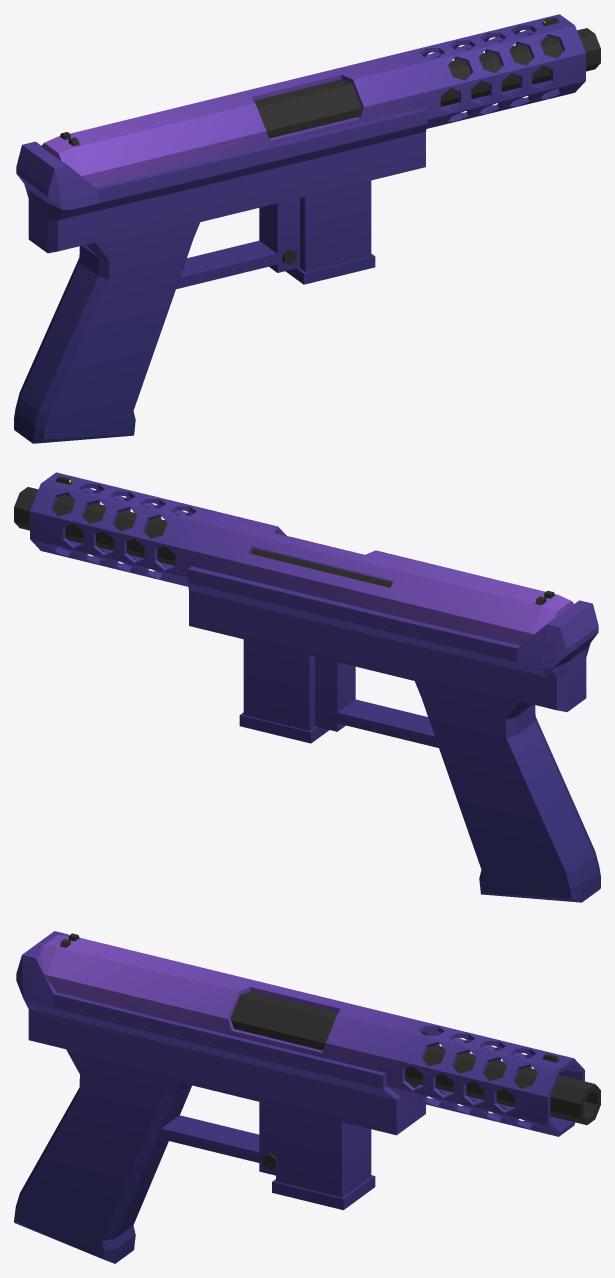
The model's file is Pistol6_04.fbx.
The picture shows the model from 3 angles, top to bottom: view 1: azimuth 30°, elevation 25°; view 2: azimuth 150°, elevation 25°; view 3: azimuth 330°, elevation 25°; orthographic projection.
Parts seen in each view (by area): view 1: Pistol6_04; view 2: Pistol6_04; view 3: Pistol6_04.
Boxes of the visible parts, bbox=[...] form: Pistol6_04: bbox=[14, 14, 600, 443]; Pistol6_04: bbox=[14, 472, 600, 902]; Pistol6_04: bbox=[14, 931, 600, 1263].
Size of the model in its own units: 0.3373 by 0.1735 by 0.0451.
